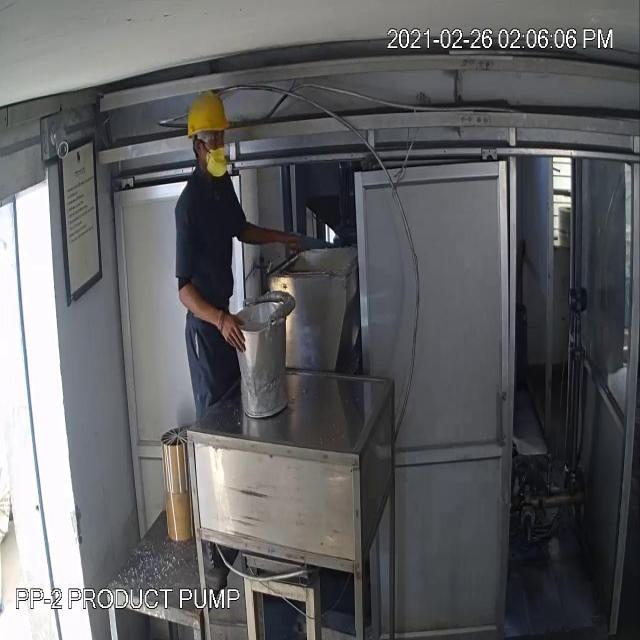helmet: (179, 88, 237, 141)
